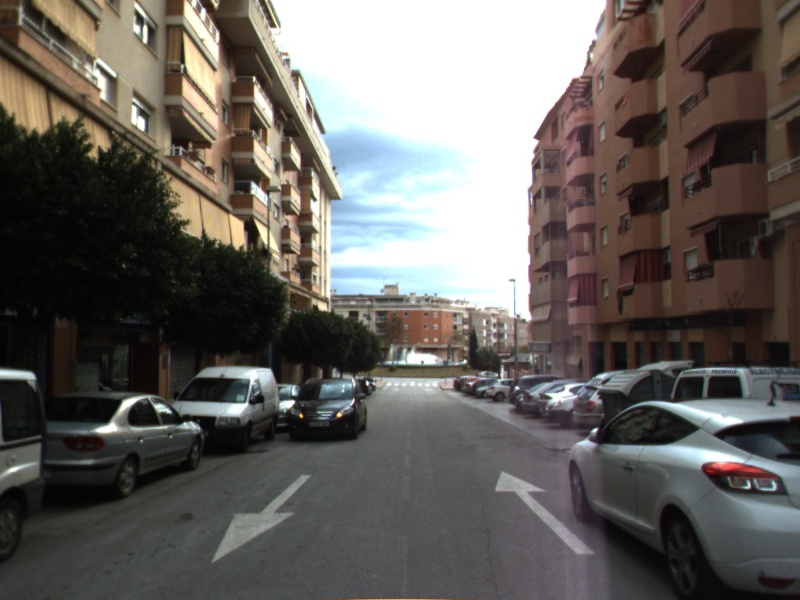STRAIGHT: (493, 468, 598, 556)
